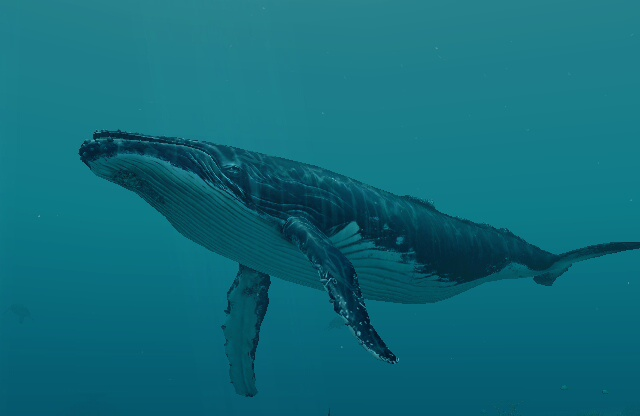humpback: (77, 129, 567, 306)
